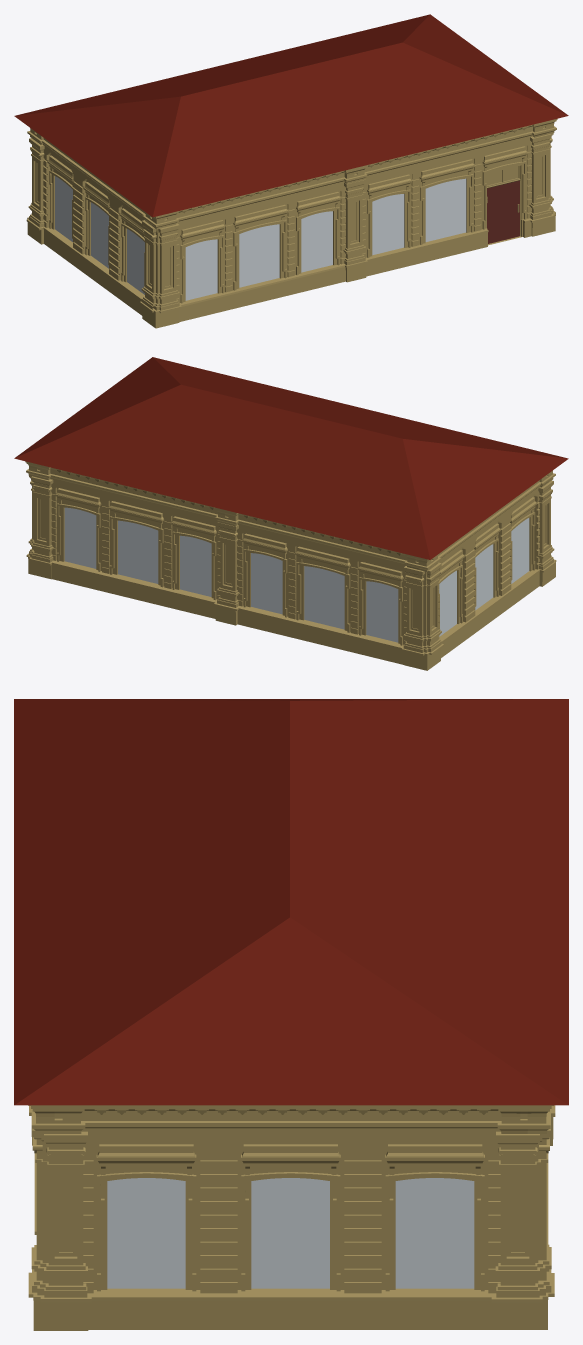
File: lavka.fbx
The picture shows the model from 3 angles, top to bottom: view 1: azimuth 30°, elevation 25°; view 2: azimuth 150°, elevation 25°; view 3: azimuth 270°, elevation 25°; orthographic projection. The views are drawn at different scales.
Parts seen in each view (by area): view 1: Cube; view 2: Cube; view 3: Cube.
Part boxes in pixels (x1,y1,x2,y2): Cube: (14,14,568,328); Cube: (14,357,568,670); Cube: (14,699,568,1330).
Bounding box in the file's own units: 875 × 328 × 505.
